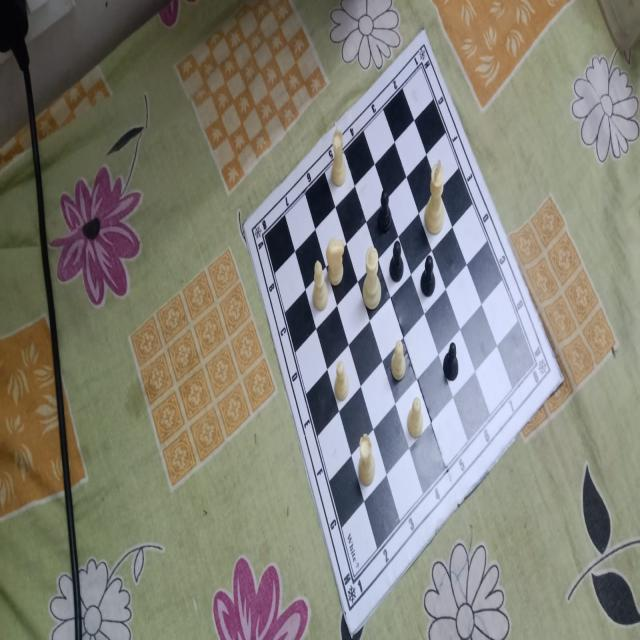corners: (237, 216, 253, 239), (418, 20, 432, 44), (556, 370, 568, 394), (345, 618, 358, 640)
